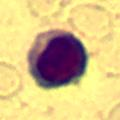lymphocyte: (28, 28, 89, 90)
